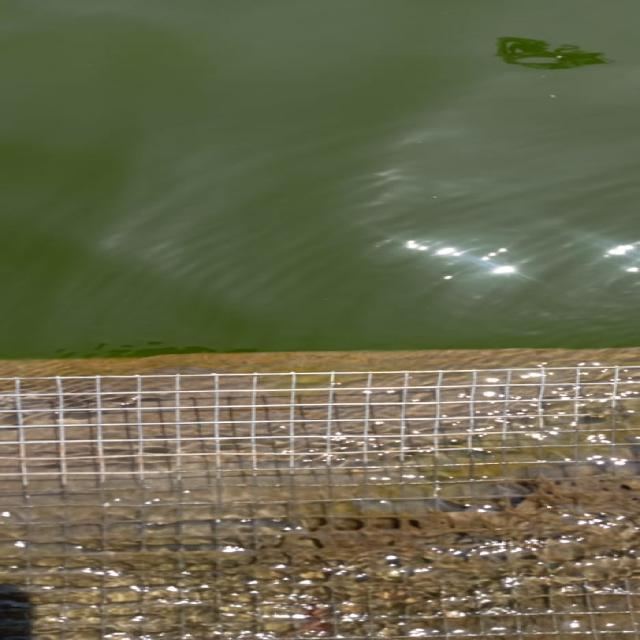Ponds: (1, 1, 640, 428)
